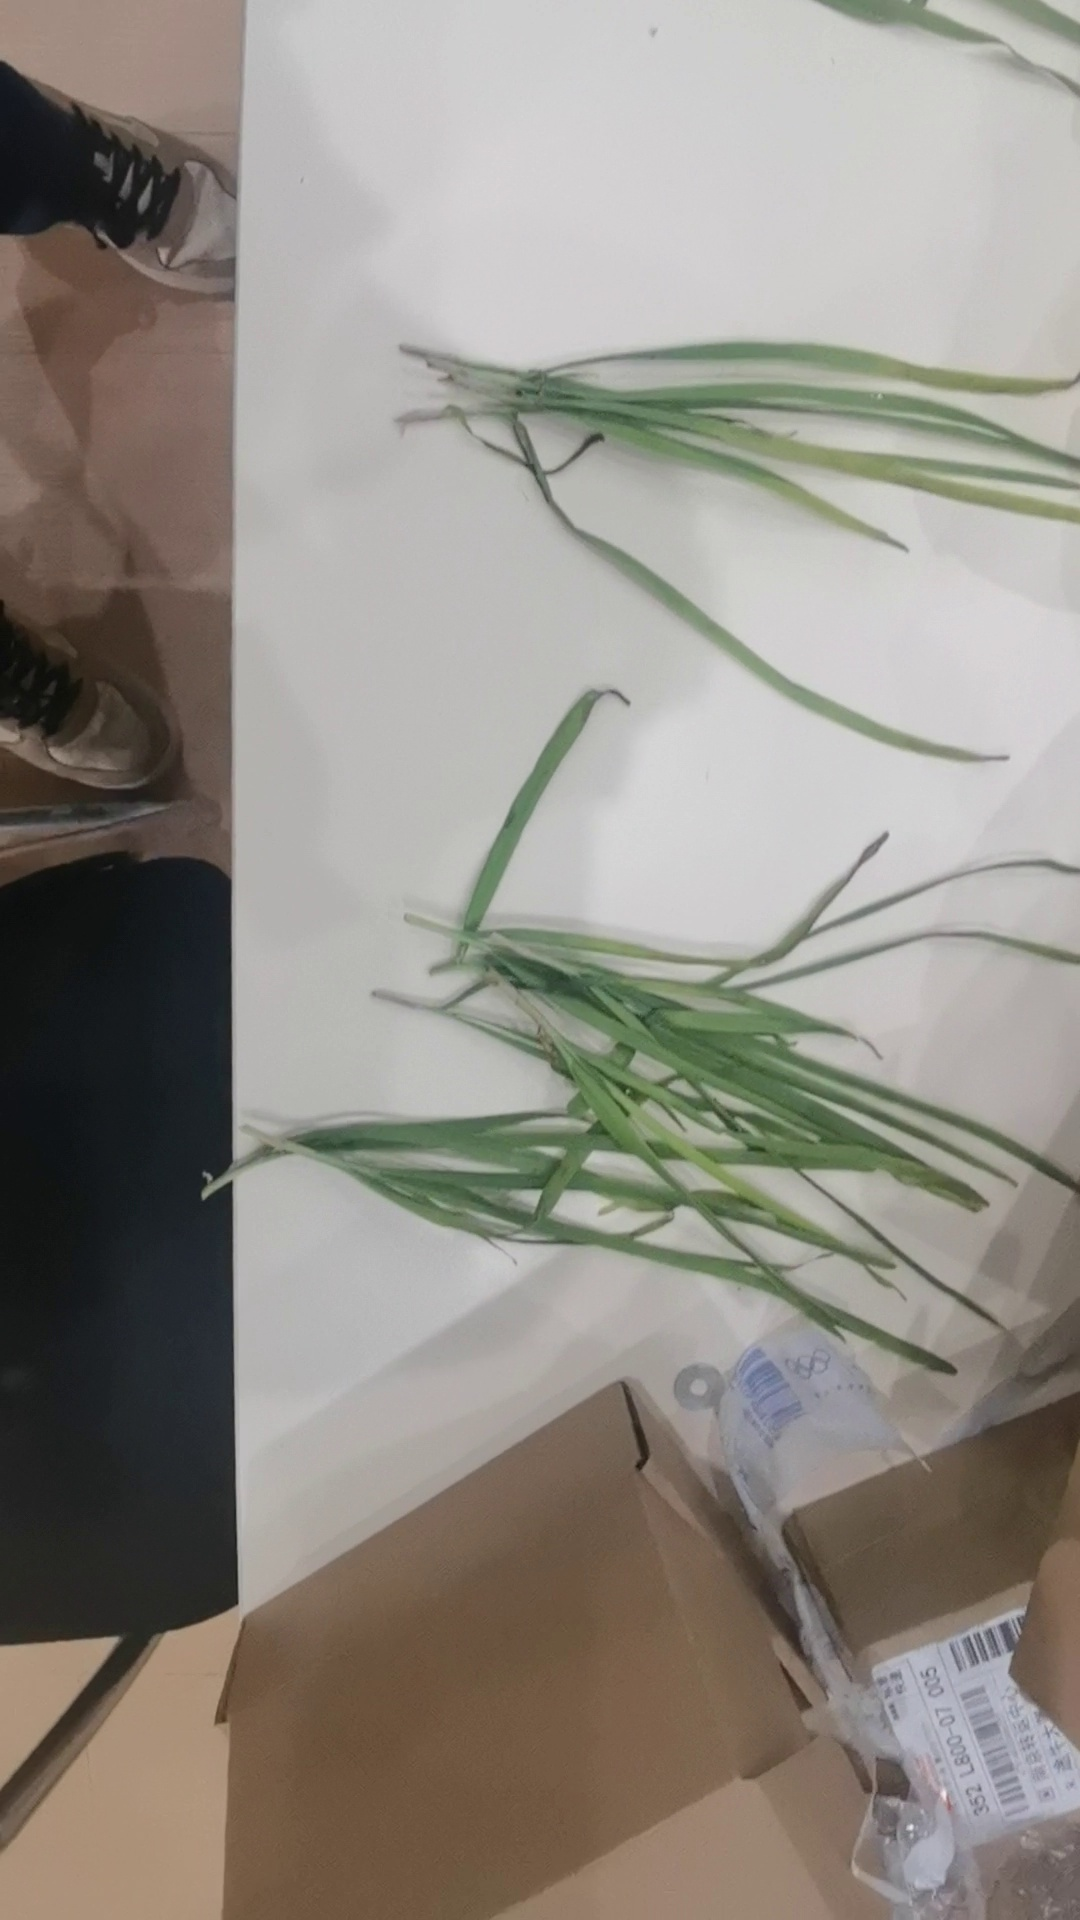chives: (255, 721, 1080, 1382), (353, 307, 1080, 781)
